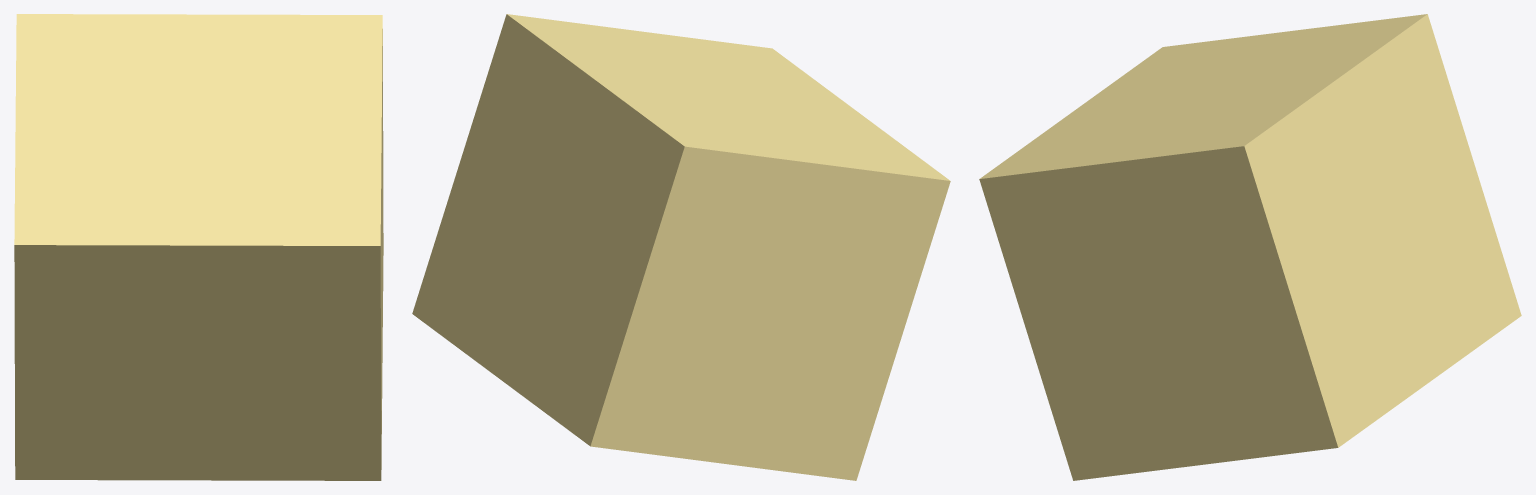
File: builtin_05_box.fbx_3b7fa44d47_trim_b324394a4a.fbx
The picture shows the model from 3 angles, left to right: view 1: azimuth 30°, elevation 25°; view 2: azimuth 150°, elevation 25°; view 3: azimuth 270°, elevation 25°; orthographic projection.
Visible parts, largest first — view 1: root; view 2: root; view 3: root.
Part boxes in pixels (box(x1,y1,x2,y2)): root: box(14, 14, 383, 480); root: box(412, 14, 950, 480); root: box(979, 14, 1521, 480).
Size of the model in its own units: 0.5106 by 0.4062 by 0.5293.
